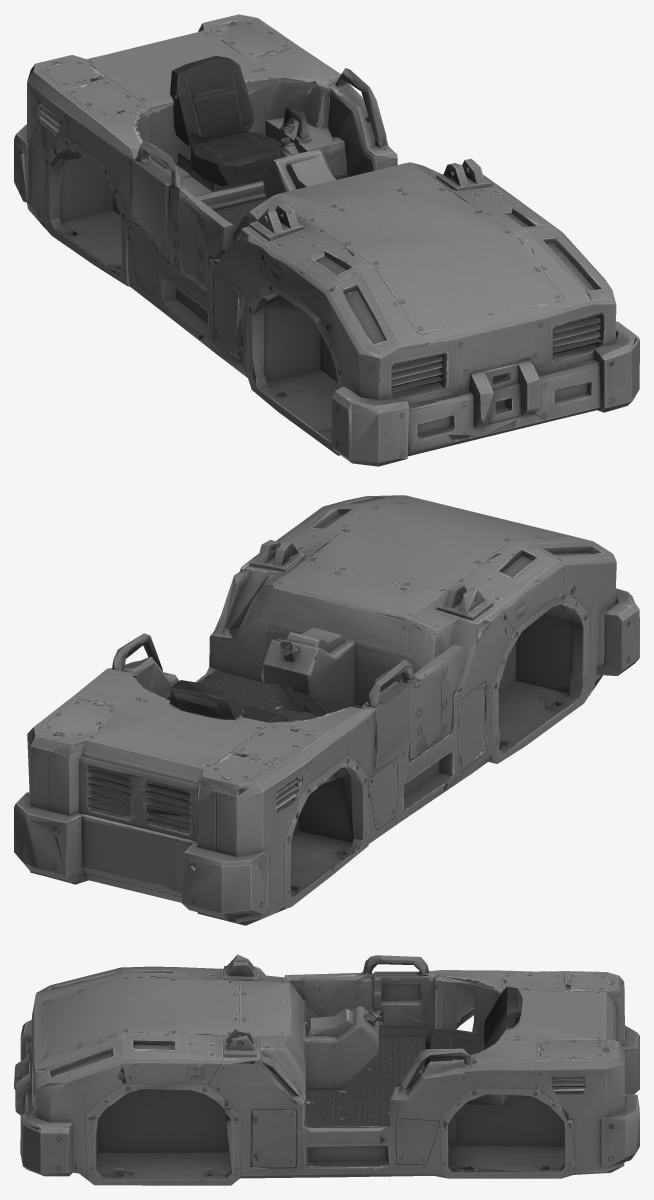
The model's file is shared_flight_deck_ordnance_tractor_lod1.glb.
The picture shows the model from 3 angles, top to bottom: view 1: azimuth 30°, elevation 25°; view 2: azimuth 150°, elevation 25°; view 3: azimuth 270°, elevation 25°; orthographic projection. The views are drawn at different scales.
Parts seen in each view (by area): view 1: mesh_node; view 2: mesh_node; view 3: mesh_node.
Boxes of the visible parts, <box> form: mesh_node: <box>14,14,639,466</box>; mesh_node: <box>14,495,639,925</box>; mesh_node: <box>14,954,639,1185</box>.
Size of the model in its own units: 1.72 by 1 by 3.96.
Materials: 1 (1 with a texture image).
